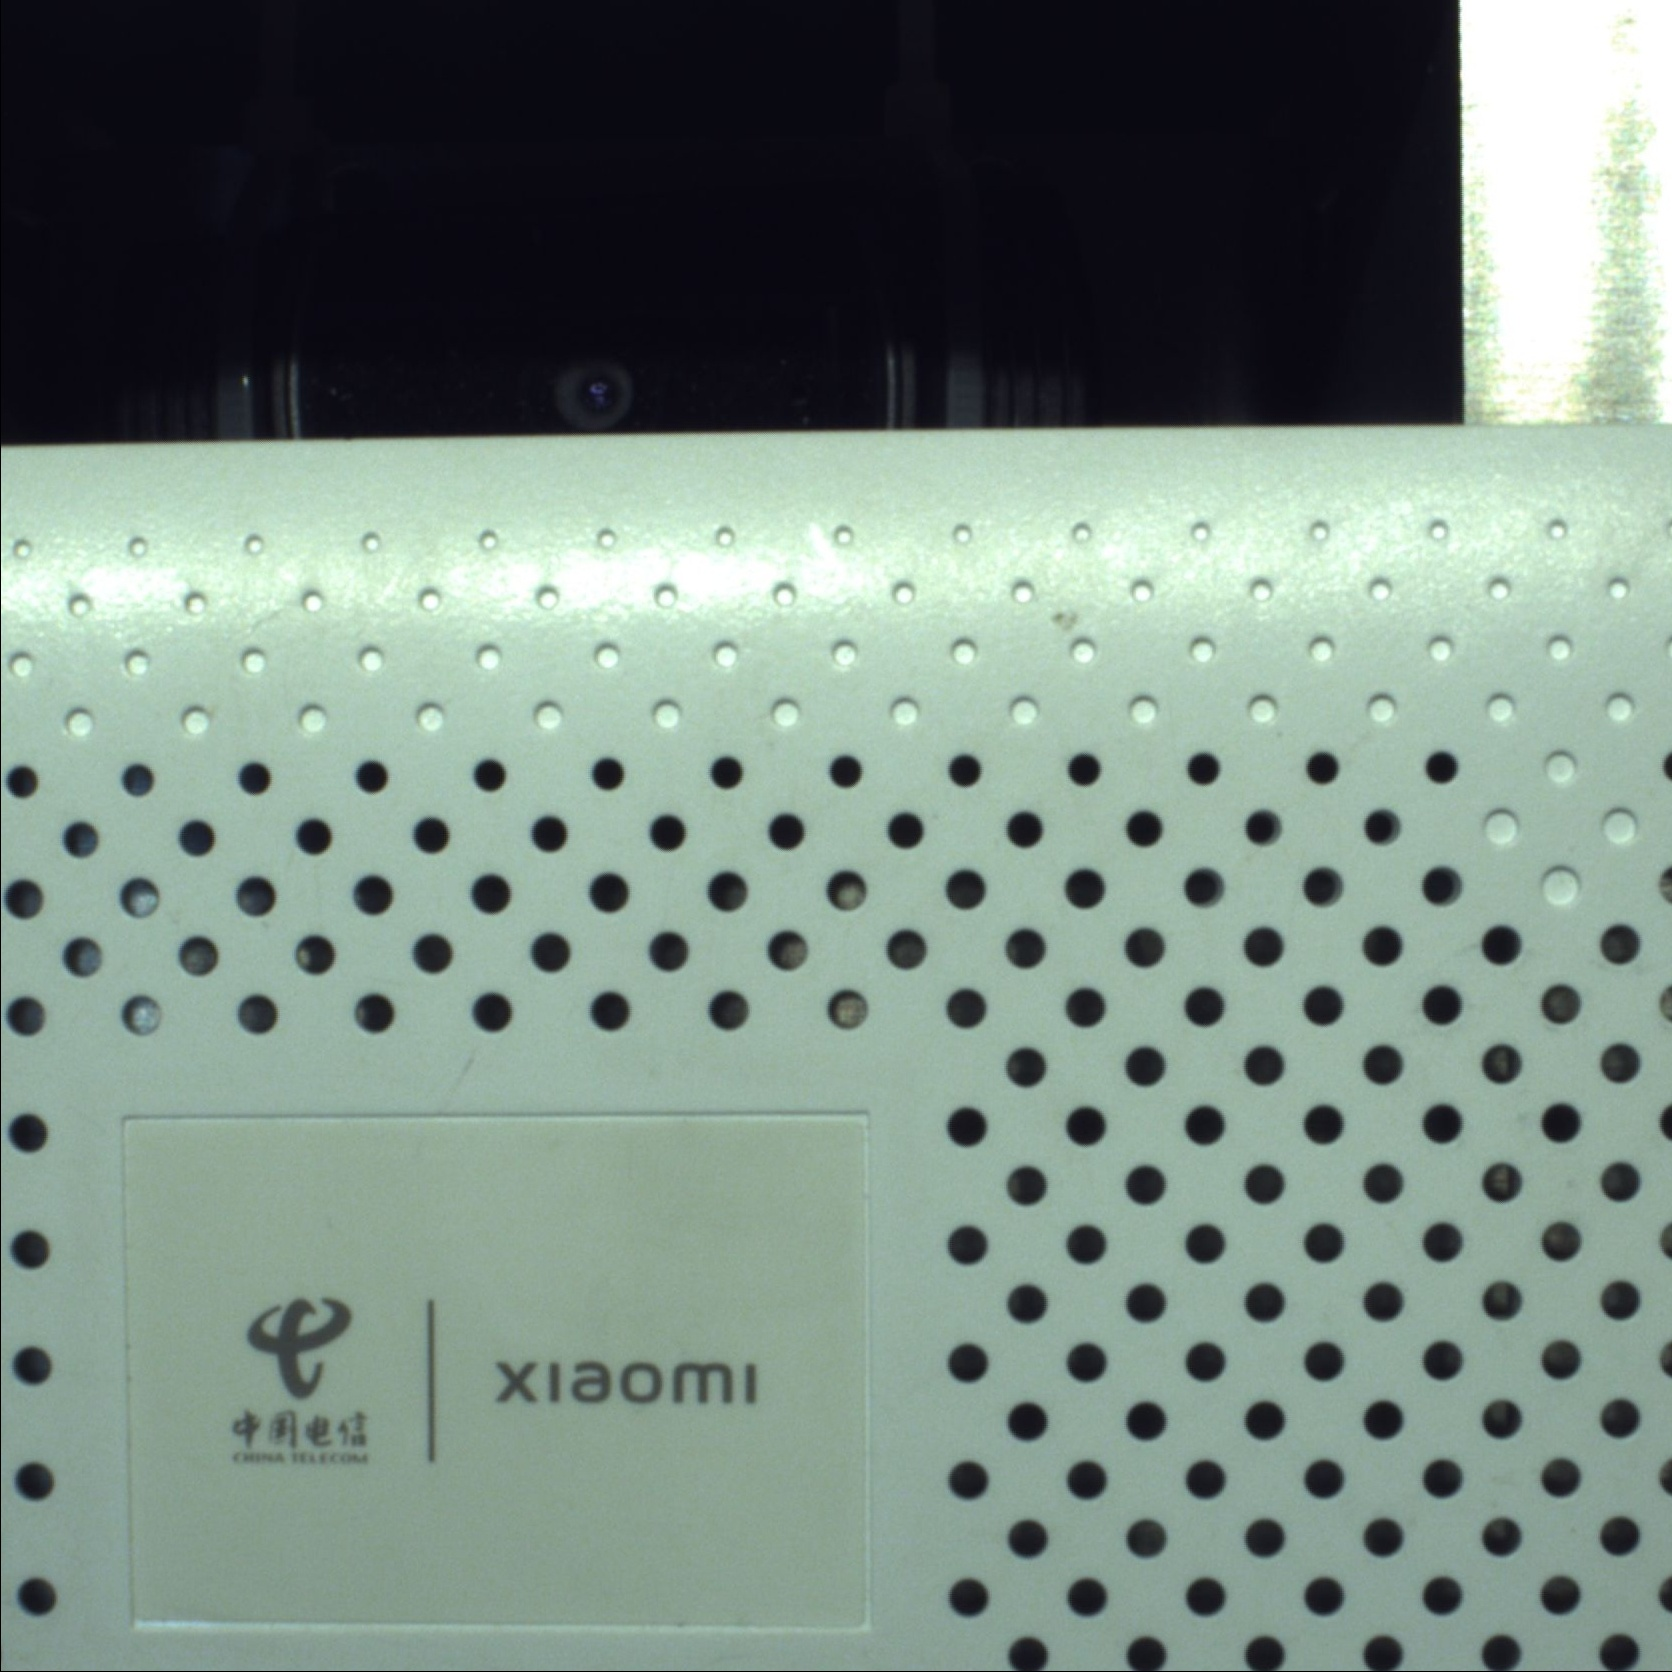MAA_Telecom: (196, 1289, 759, 1476)
